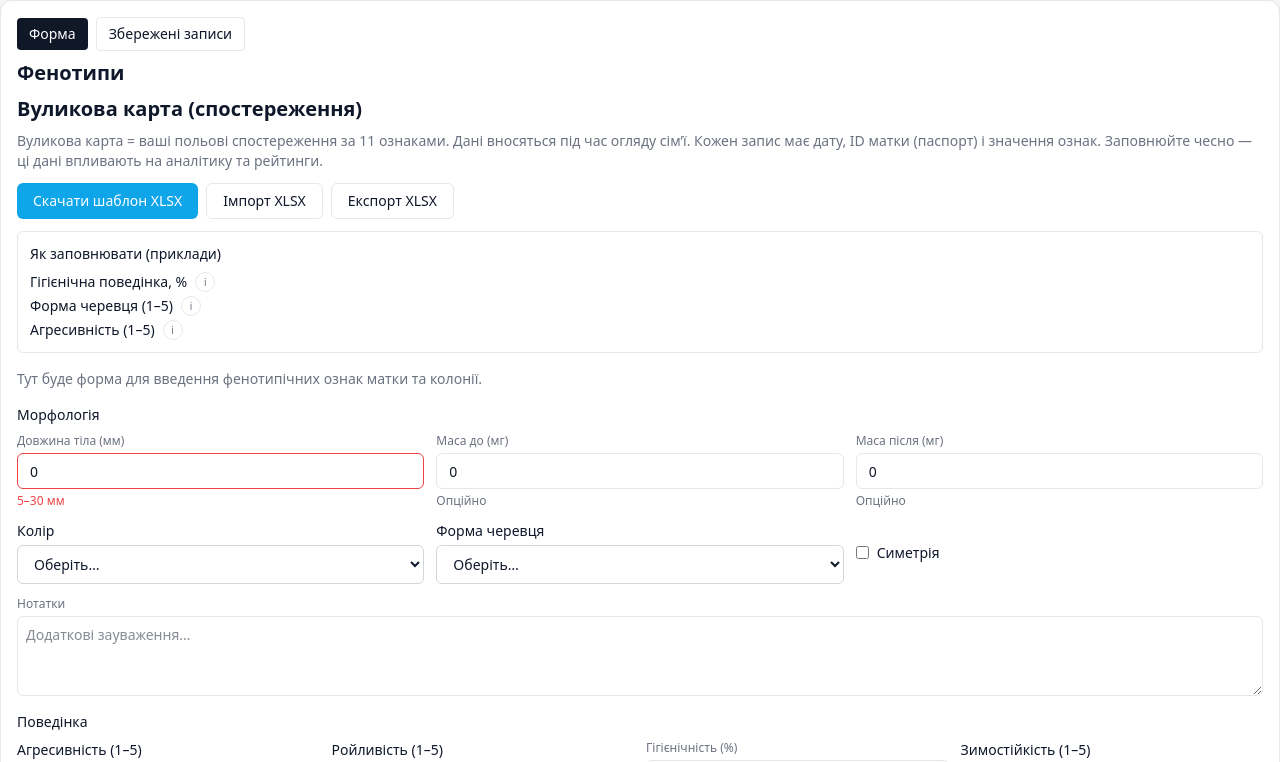
Test: Phenotypes page › shows saved tab empty state
The image size is (1280, 762).
Click the button "Збережені записи": point(170, 34) [96,17,245,51]
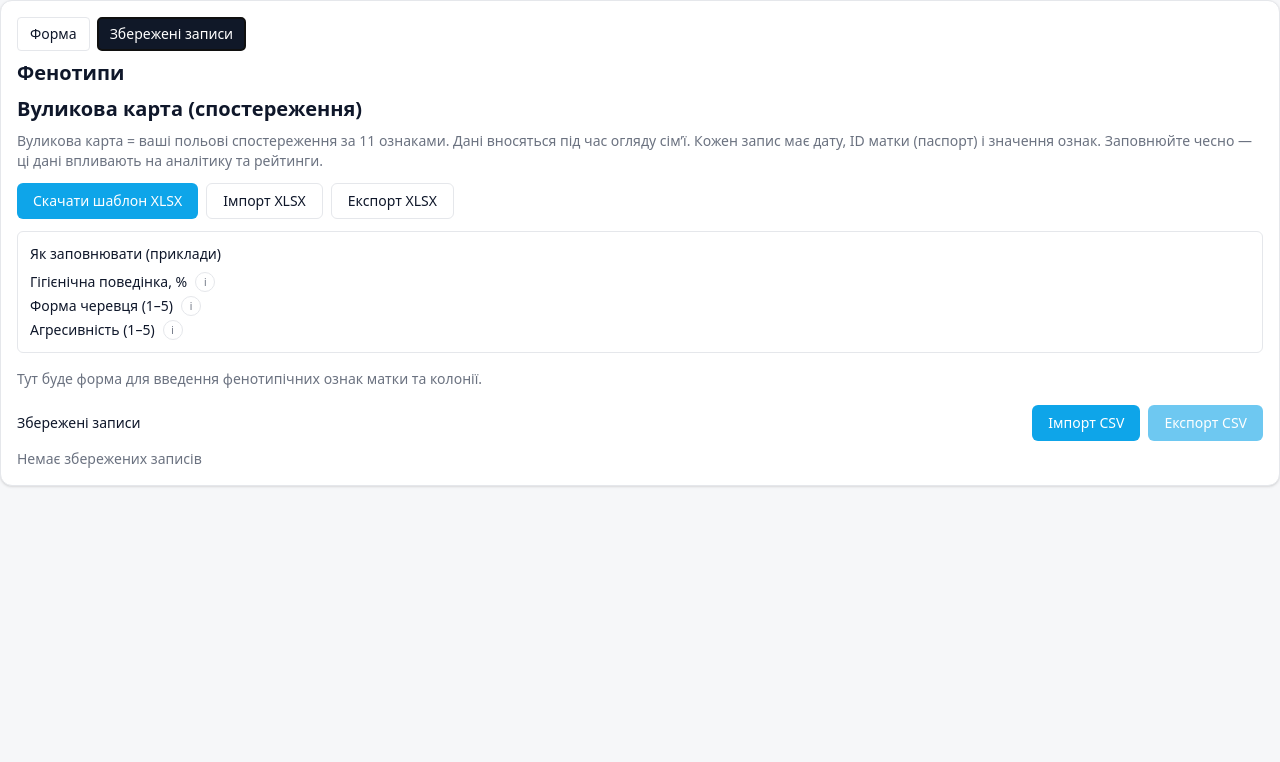
Check: the text "Немає збережених записів" is shown, box [17,449,202,468]
